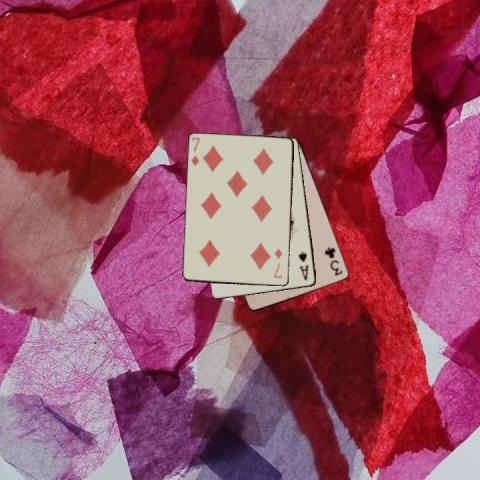3c: (322, 244, 344, 277)
7d: (271, 245, 284, 280), (188, 135, 201, 167)
As: (295, 249, 310, 282)
